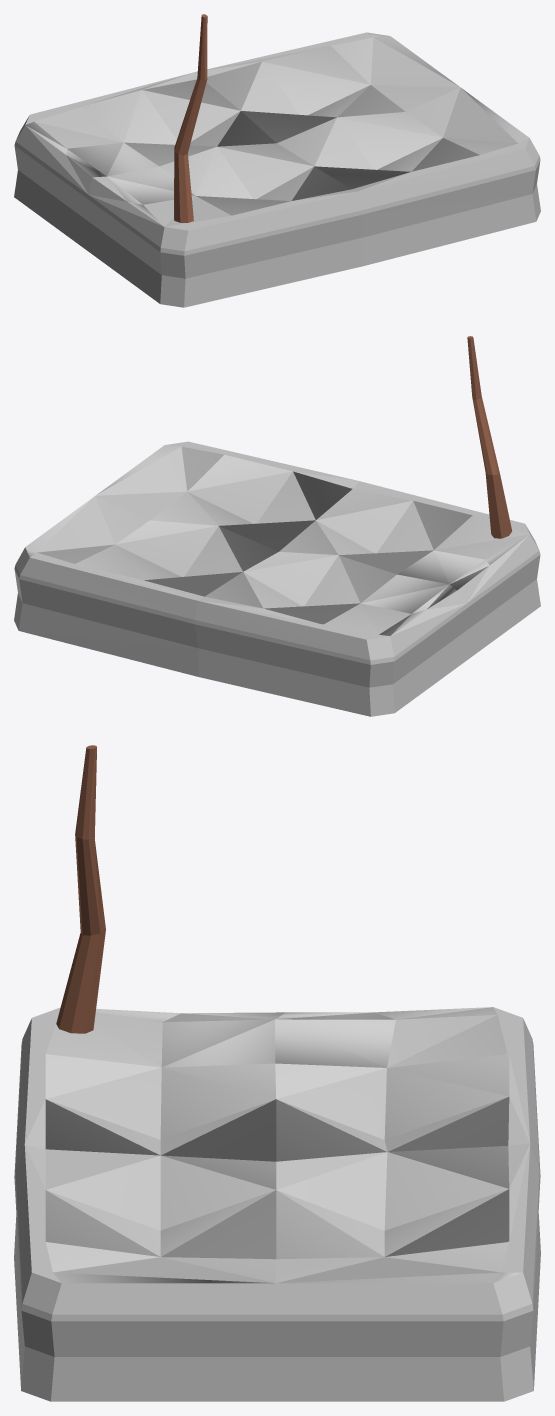
The model's file is CheckpointDeactivated.fbx.
3 renders of one model, top to bottom at view 1: azimuth 30°, elevation 25°; view 2: azimuth 150°, elevation 25°; view 3: azimuth 270°, elevation 25°, orthographic. The views are drawn at different scales.
Parts seen in each view (by area): view 1: CheckpointDeactivated; view 2: CheckpointDeactivated; view 3: CheckpointDeactivated.
Part boxes in pixels (<box>): CheckpointDeactivated: <box>14,14,540,307</box>; CheckpointDeactivated: <box>14,336,540,716</box>; CheckpointDeactivated: <box>14,745,540,1401</box>.
Size of the model in its own units: 267 by 178 by 207.
